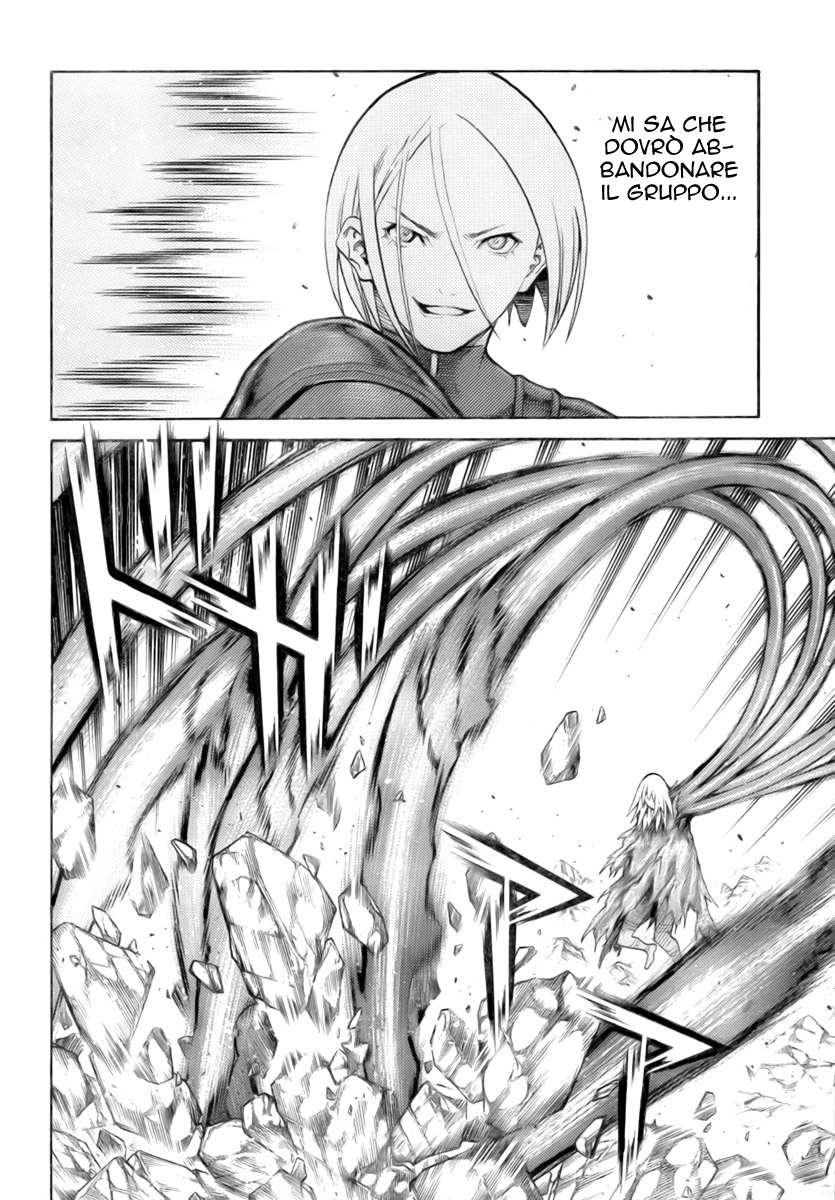Baloon: (595, 107, 747, 202)
Vignetta: (46, 438, 835, 1196), (53, 73, 760, 416)
